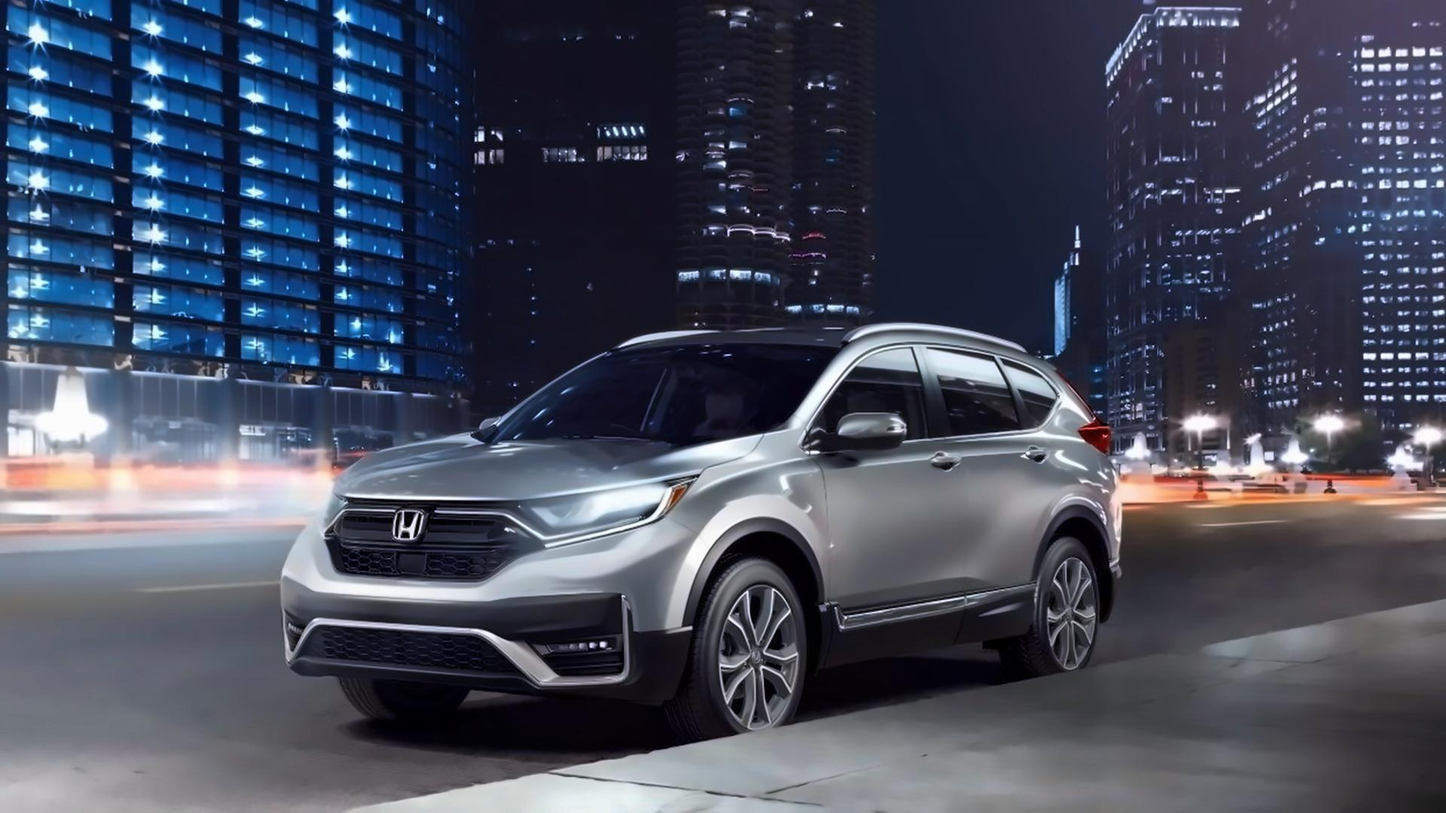Car hood: (330, 433, 759, 523)
Fender - -F-L-: (656, 488, 829, 639)
Fender - -R-L-: (1028, 483, 1110, 563)
Front bumper: (273, 551, 698, 708)
Headlight - -L-: (510, 473, 699, 548)
Headlight - -R-: (295, 474, 349, 538)
Passenger-s door - -F-L-: (813, 323, 977, 653)
Passenger-s door - -R-L-: (910, 313, 1052, 640)
Rear bumper: (1084, 476, 1132, 598)
Rear light - -L-: (1076, 419, 1120, 462)
Side bumper - -L-: (810, 560, 1036, 674)
Side mirror - -L-: (832, 412, 907, 454)
